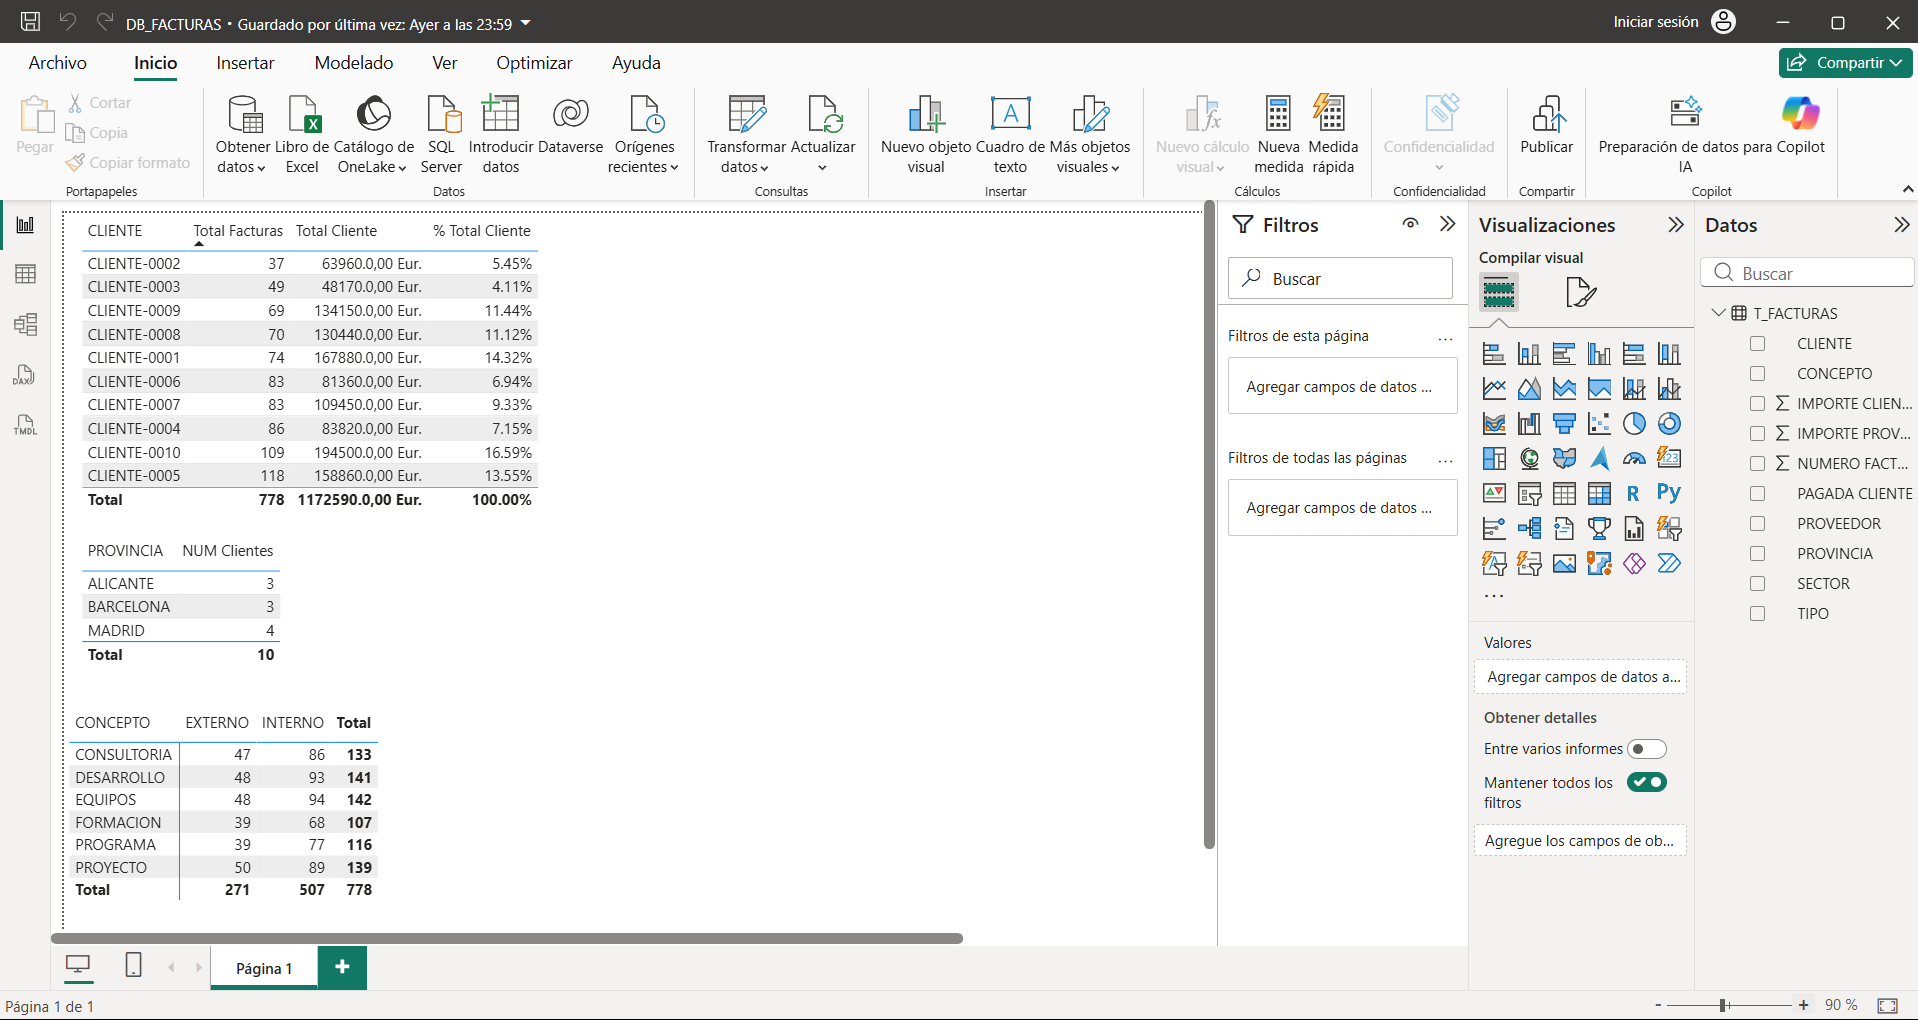

What the dashboard file says about the page in this screenshot:
{"tool":"powerbi","page":{"name":"Página 1","canvas":[1280,720],"ordinal":0},"visuals":[{"type":"tableEx","fields":{"Values":["T_FACTURAS.CLIENTE","CountNonNull(T_FACTURAS.NUMERO FACTURA CLIENTE)","Sum(T_FACTURAS.IMPORTE CLIENTE)","Divide(Sum(T_FACTURAS.IMPORTE CLIENTE), ScopedEval(Sum(T_FACTURAS.IMPORTE CLIENTE), []))"]},"box":[9.7,0,423.5,279.7],"z":0},{"type":"tableEx","fields":{"Values":["T_FACTURAS.PROVINCIA","T_FACTURAS.CLIENTE"]},"box":[9.7,284.5,312,152],"z":1},{"type":"pivotTable","fields":{"Rows":["T_FACTURAS.CONCEPTO"],"Columns":["T_FACTURAS.TIPO"],"Values":["CountNonNull(T_FACTURAS.NUMERO FACTURA CLIENTE)"]},"box":[0,436.5,423.5,231.2],"z":2}]}

Visuals, with their boxes on the page's 1280x720 design canvas (x1, y1, x2, y2). These are canvas units, not pixel positions in the 1918x1020 screenshot, which may show the page scaled, cropped or inside an application window:
tableEx - T_FACTURAS.CLIENTE x CountNonNull(T_FACTURAS.NUMERO FACTURA CLIENTE): box=[10, 0, 433, 280]
tableEx - T_FACTURAS.PROVINCIA x T_FACTURAS.CLIENTE: box=[10, 284, 322, 436]
pivotTable - T_FACTURAS.CONCEPTO x T_FACTURAS.TIPO: box=[0, 436, 424, 668]
